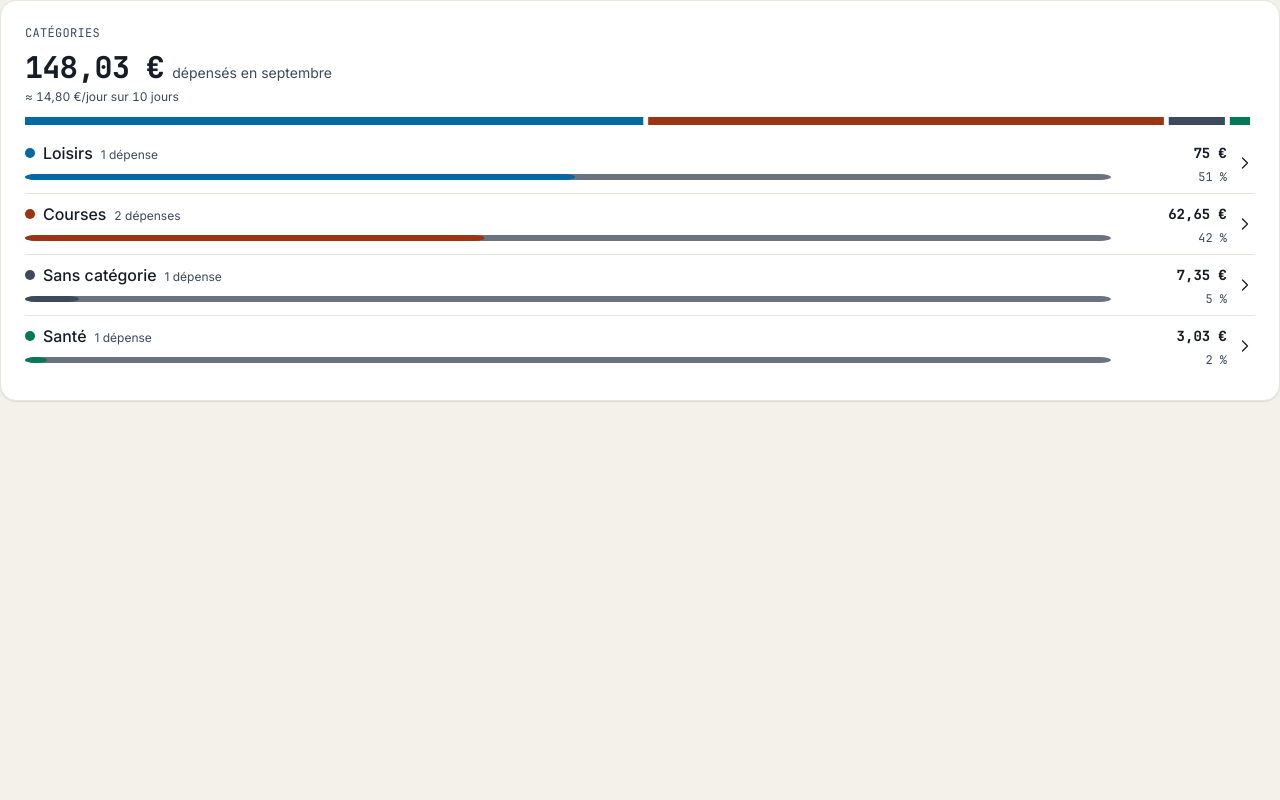
Test: CategoriesCard (G-cat) › a category opens g-cat with its lines to the cent
This screenshot has width=1280, height=800.
Click the button with test id "g-cat-ligne" at (75,214), box [25, 194, 1255, 254]
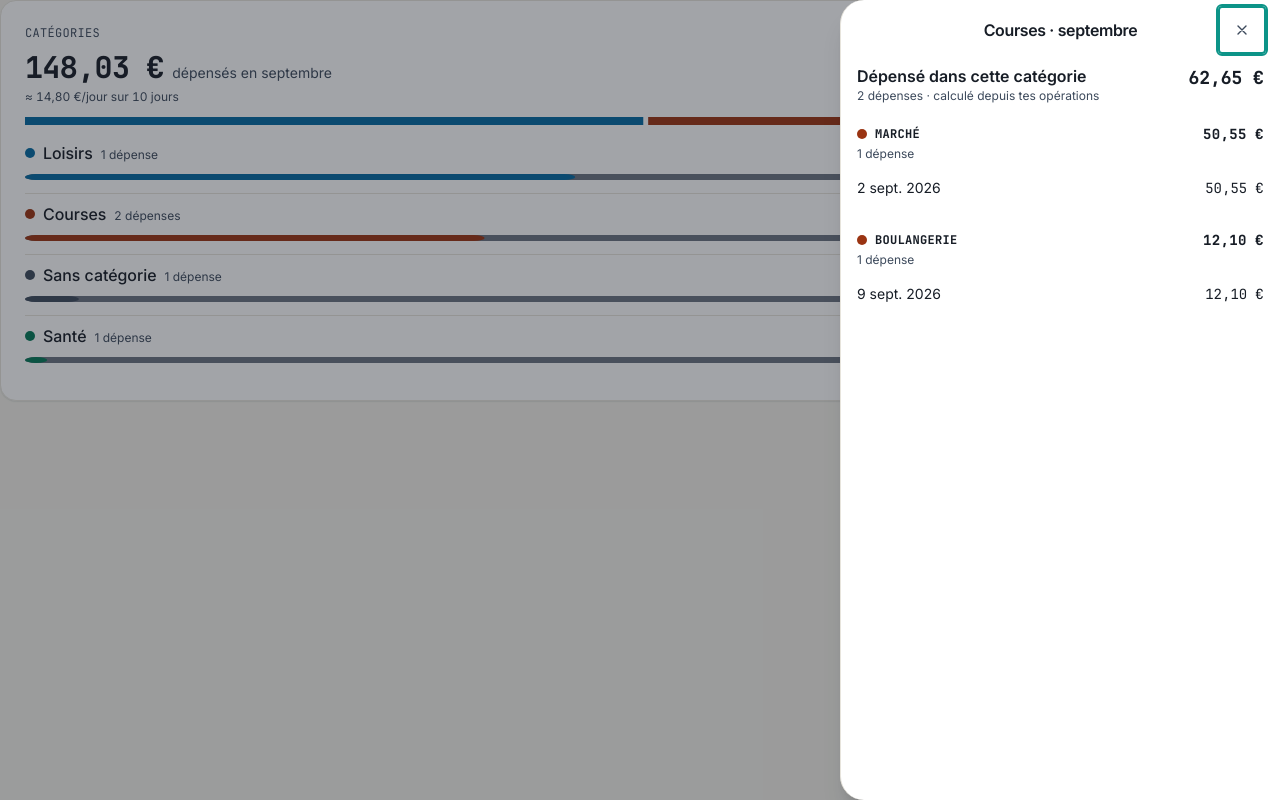
Check: the heading "Courses · septembre" is shown, box [984, 18, 1137, 42]
Check: the element with test id "g-cat-total" reads "Dépensé dans cette catégorie 2 dépenses · calculé depuis tes opérations 62,65 €", box [1188, 66, 1264, 89]
